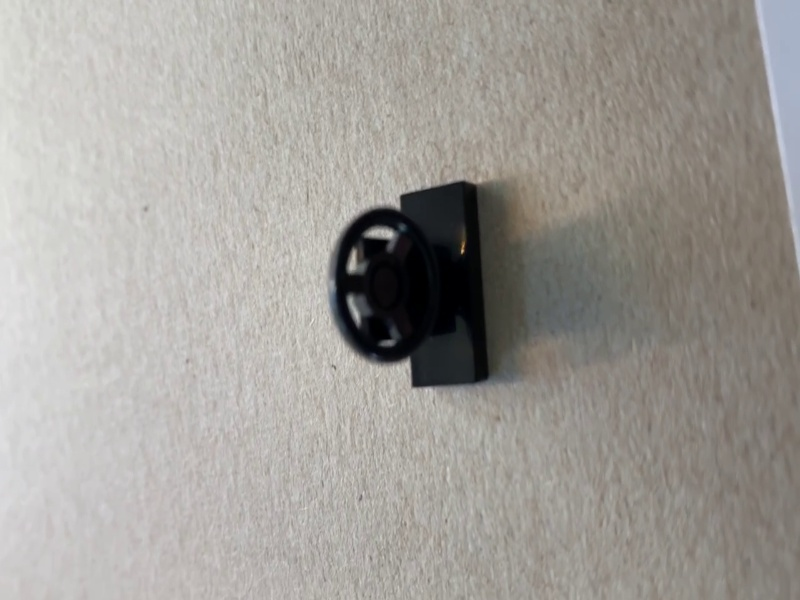steering wheel: (323, 180, 489, 386)
